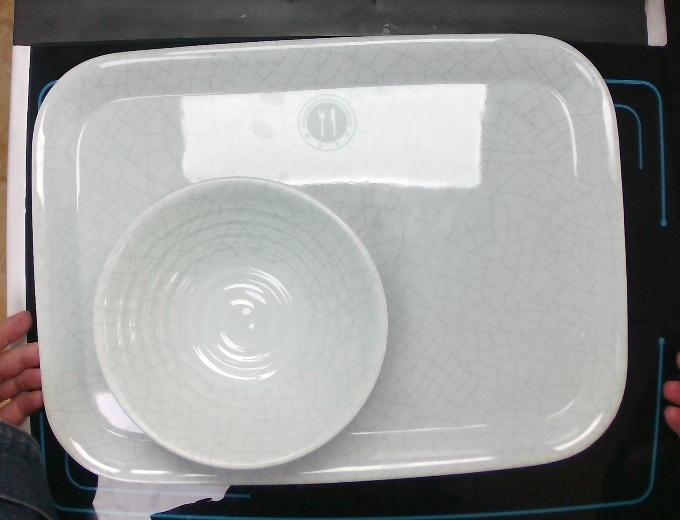JYsf-Xiao_Tang_Wan: (87, 173, 391, 472)
